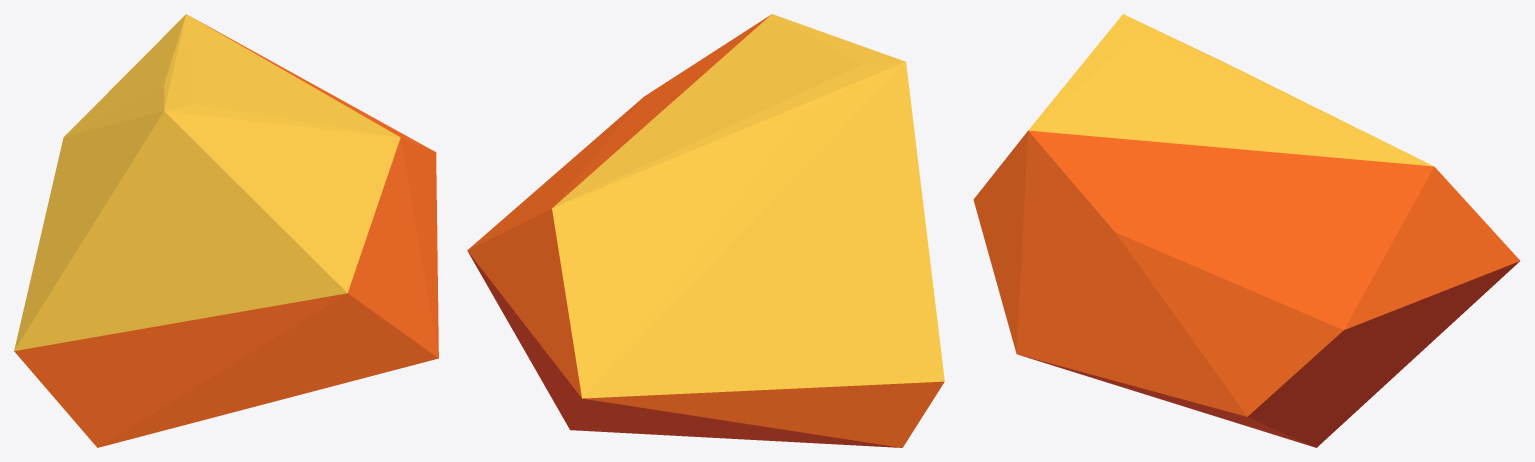
Rendered from debris_rock_c.glb.
3 renders of one model, left to right at view 1: azimuth 30°, elevation 25°; view 2: azimuth 150°, elevation 25°; view 3: azimuth 270°, elevation 25°, orthographic. The views are drawn at different scales.
Visible parts, largest first — view 1: debris_rock_c; view 2: debris_rock_c; view 3: debris_rock_c.
Boxes of the visible parts, bbox=[...] form: debris_rock_c: bbox=[14, 14, 438, 447]; debris_rock_c: bbox=[467, 14, 944, 447]; debris_rock_c: bbox=[973, 14, 1520, 447].
Size of the model in its own units: 1.46 by 1.18 by 1.78.
